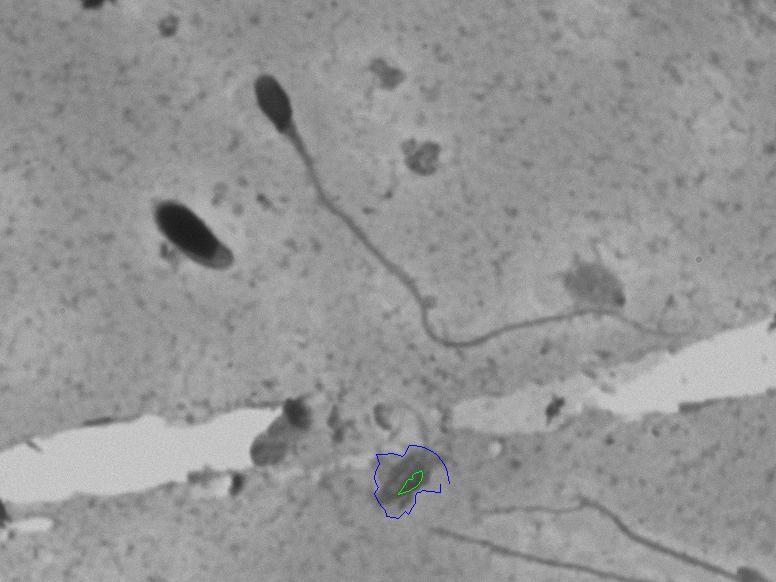Abnormal: (244, 51, 687, 355), (134, 190, 254, 307)
